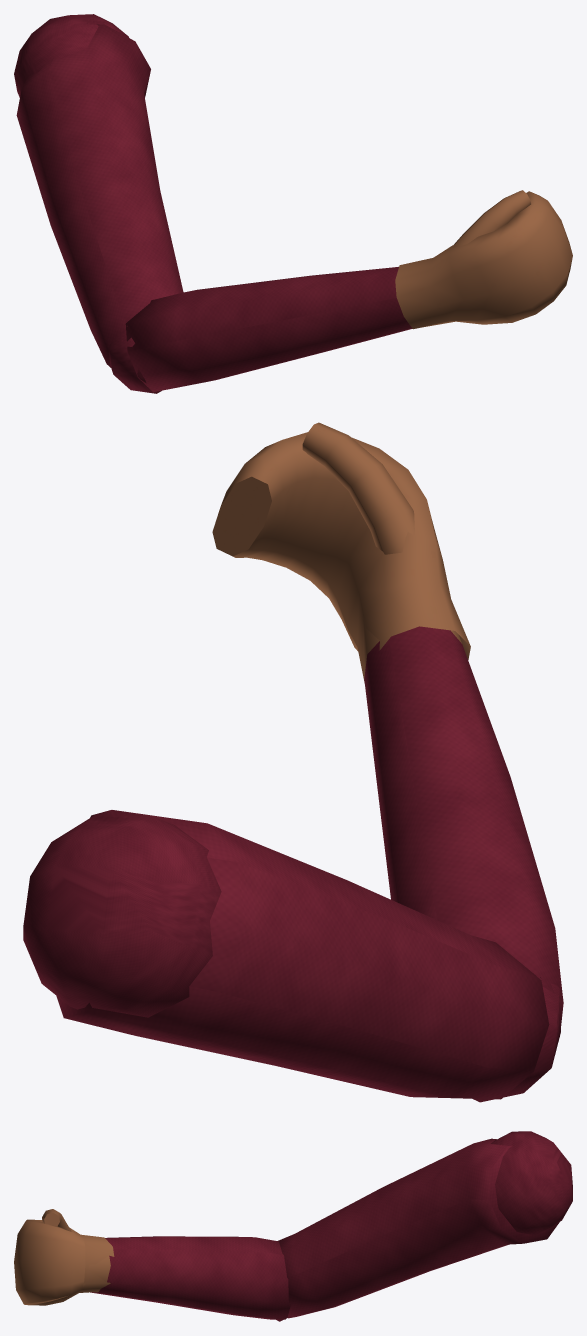
The model's file is brazoder.obj.
The picture shows the model from 3 angles, top to bottom: view 1: azimuth 30°, elevation 25°; view 2: azimuth 150°, elevation 25°; view 3: azimuth 270°, elevation 25°; orthographic projection. The views are drawn at different scales.
Visible parts, largest first — view 1: trombon_BrazoDer, trombon_AntebrazoDer, trombon_ManoDer, trombon_HombroDer, trombon_CodoDer; view 2: trombon_BrazoDer, trombon_AntebrazoDer, trombon_ManoDer, trombon_HombroDer, trombon_CodoDer; view 3: trombon_BrazoDer, trombon_AntebrazoDer, trombon_ManoDer, trombon_HombroDer.
Boxes of the visible parts, x1,y1,x2,y2 form: trombon_BrazoDer: (16, 24, 183, 367); trombon_AntebrazoDer: (125, 266, 440, 392); trombon_ManoDer: (395, 190, 572, 329); trombon_HombroDer: (14, 14, 128, 97); trombon_CodoDer: (109, 331, 161, 393); trombon_BrazoDer: (56, 810, 549, 1099); trombon_AntebrazoDer: (362, 618, 563, 1034); trombon_ManoDer: (212, 422, 470, 682); trombon_HombroDer: (23, 814, 221, 1017); trombon_CodoDer: (472, 983, 560, 1102); trombon_BrazoDer: (278, 1138, 559, 1318); trombon_AntebrazoDer: (88, 1236, 290, 1319); trombon_ManoDer: (14, 1209, 114, 1305); trombon_HombroDer: (491, 1131, 572, 1235).
Bounding box in the file's own units: 0.2921 × 0.2107 × 0.5142.
2 materials, 2 textured.
